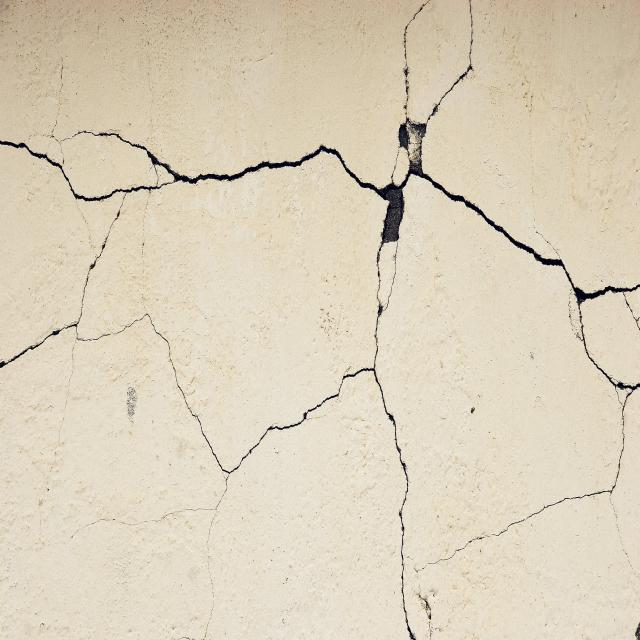Wall_Cracks: (2, 1, 638, 635)
